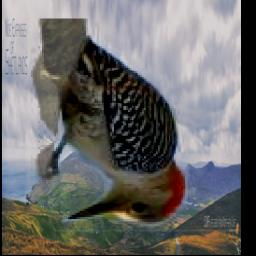Woodpecker: (32, 20, 218, 236)
